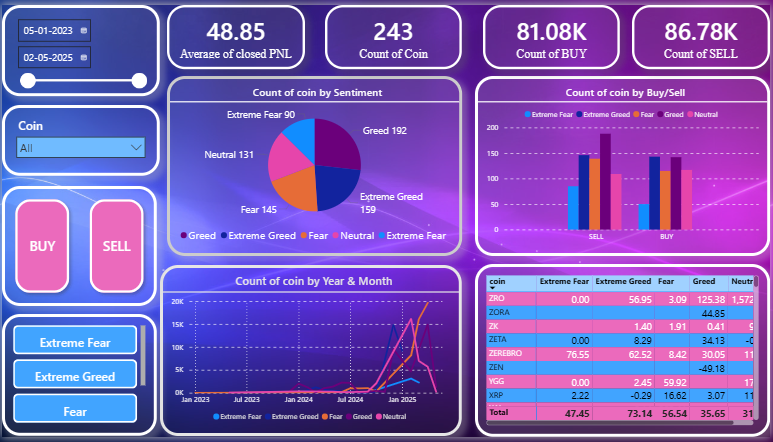

Layout of this report page (visuals, bound fields, positions):
{"tool":"powerbi","page":{"name":"Page 1","canvas":[1280,720],"ordinal":0},"visuals":[{"type":"pieChart","fields":{"Category":["clean_trader_sentiment (1).classification"],"Y":["Count(clean_trader_sentiment (1).coin)"]},"box":[275,118.3,491.7,300],"z":3},{"type":"lineChart","fields":{"Series":["clean_trader_sentiment (1).classification"],"Y":["CountNonNull(clean_trader_sentiment (1).coin)"],"Category":["clean_trader_sentiment (1).date.Variation.Date Hierarchy.Year","clean_trader_sentiment (1).date.Variation.Date Hierarchy.Month"]},"box":[263.3,433.3,503.3,285],"z":5},{"type":"clusteredColumnChart","fields":{"Category":["clean_trader_sentiment (1).side"],"Series":["clean_trader_sentiment (1).classification"],"Y":["Count(clean_trader_sentiment (1).coin)"]},"box":[788.3,118.3,491.7,300],"z":6},{"type":"pivotTable","fields":{"Rows":["clean_trader_sentiment (1).coin"],"Columns":["clean_trader_sentiment (1).classification"],"Values":["Avg(clean_trader_sentiment (1).closed pnl)"]},"box":[788.3,431.7,491.7,288.3],"z":7},{"type":"slicer","fields":{"Values":["clean_trader_sentiment (1).date"]},"box":[0,0,263.3,151.7],"z":8},{"type":"slicer","fields":{"Values":["clean_trader_sentiment (1).coin"]},"box":[0,166.7,263.3,118.3],"z":9},{"type":"advancedSlicerVisual","fields":{"Values":["clean_trader_sentiment (1).side"]},"box":[0,301.7,258.3,200],"z":10},{"type":"advancedSlicerVisual","fields":{"Values":["clean_trader_sentiment (1).classification"]},"box":[0,515,258.3,203.3],"z":11},{"type":"card","title":"yum","fields":{"Values":["Avg(clean_trader_sentiment (1).closed pnl)"]},"box":[275,0,230,106.7],"z":12},{"type":"card","title":"yum","fields":{"Values":["Count(clean_trader_sentiment (1).coin)"]},"box":[538.3,0,228.3,106.7],"z":13},{"type":"card","title":"yum","fields":{"Values":["CountNonNull(clean_trader_sentiment (1).side)"]},"box":[801.7,0,228.3,106.7],"z":14},{"type":"card","title":"yum","fields":{"Values":["CountNonNull(clean_trader_sentiment (1).side)"]},"box":[1050,0,230,106.7],"z":15}]}

Visuals, with their boxes in screenshot pixels (x1, y1, x2, y2), scaled from the page's 1280x720 canvas onto the 773x442 screenshot:
pieChart - clean_trader_sentiment (1).classification x Count(clean_trader_sentiment (1).coin): region(166, 73, 463, 257)
lineChart - clean_trader_sentiment (1).classification x CountNonNull(clean_trader_sentiment (1).coin): region(159, 266, 463, 441)
clusteredColumnChart - clean_trader_sentiment (1).side x clean_trader_sentiment (1).classification: region(476, 73, 772, 257)
pivotTable - clean_trader_sentiment (1).coin x clean_trader_sentiment (1).classification: region(476, 265, 772, 441)
slicer - clean_trader_sentiment (1).date: region(0, 0, 159, 93)
slicer - clean_trader_sentiment (1).coin: region(0, 102, 159, 175)
advancedSlicerVisual - clean_trader_sentiment (1).side: region(0, 185, 156, 308)
advancedSlicerVisual - clean_trader_sentiment (1).classification: region(0, 316, 156, 441)
"yum" card: region(166, 0, 305, 66)
"yum" card: region(325, 0, 463, 66)
"yum" card: region(484, 0, 622, 66)
"yum" card: region(634, 0, 772, 66)
